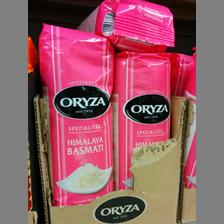Reis: (39, 22, 114, 204), (111, 48, 171, 188), (74, 1, 174, 52)
